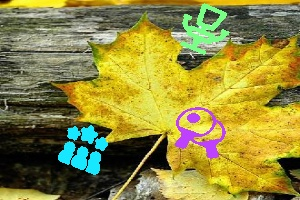三朵花: (62, 126, 107, 173)
乒乓球拍: (175, 107, 225, 159)
奖杯: (179, 3, 229, 54)
